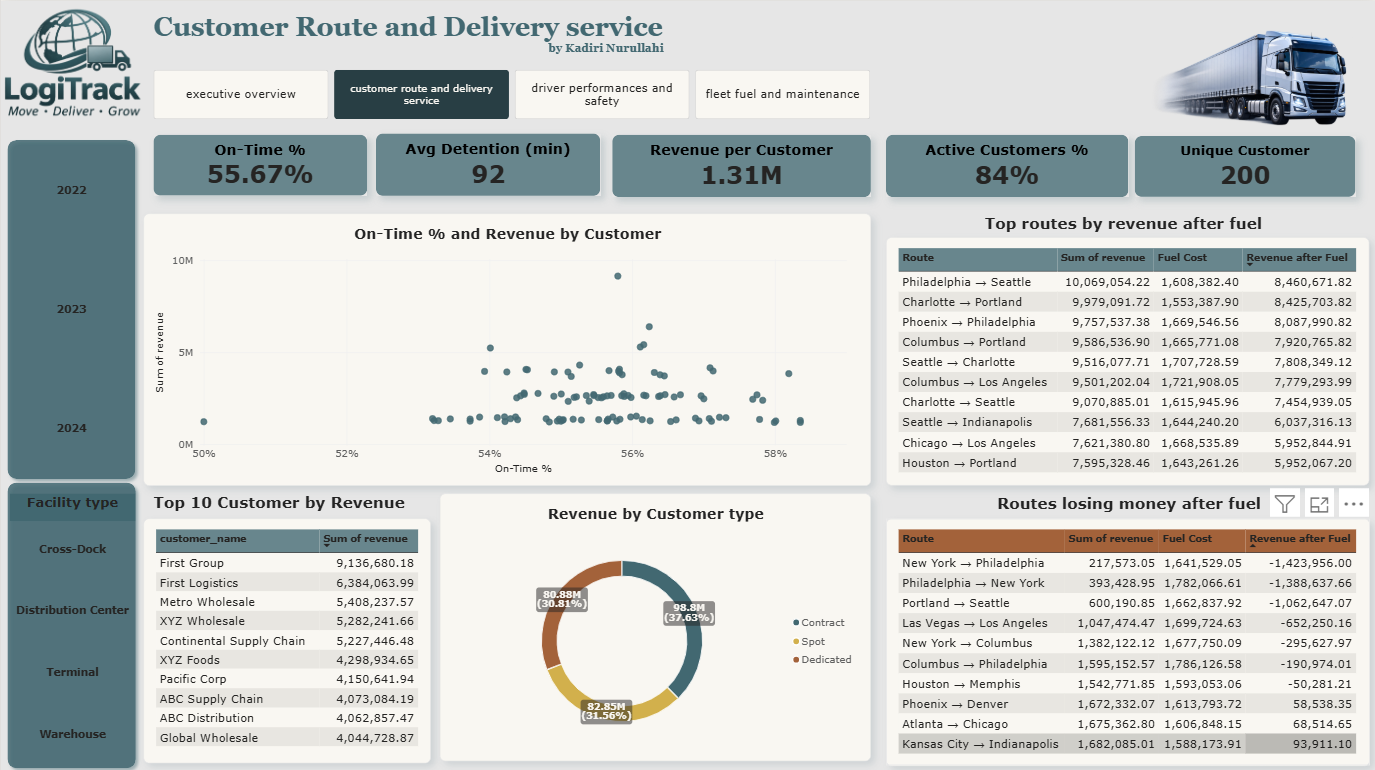

What the dashboard file says about the page in this screenshot:
{"tool":"powerbi","page":{"name":"customer route and delivery service","canvas":[1920,1080],"ordinal":1},"visuals":[{"type":"shape","box":[0,185.7,196.4,491.1],"z":0},{"type":"shape","box":[0,662.8,197.1,416.9],"z":1000},{"type":"cardVisual","fields":{"Data":["loads.Avg Detention (min)"]},"box":[523.3,184.9,314,87.2],"z":2000},{"type":"cardVisual","fields":{"Data":["loads.Revenue per Customer"]},"box":[852.9,186.6,361,87.2],"z":3000},{"type":"cardVisual","fields":{"Data":["loads.On-Time %"]},"box":[212.8,186.6,298.3,85.5],"z":4000},{"type":"tableEx","fields":{"Values":["routes.Route","Sum(loads.revenue)","loads.Fuel Cost","loads.Revenue after Fuel"]},"box":[1235,329.5,674.5,346.5],"z":5000},{"type":"scatterChart","title":"On-Time % and Revenue by Customer ","fields":{"Category":["customers.customer_name"],"X":["loads.On-Time %"],"Y":["Sum(loads.revenue)"]},"box":[198.8,296.5,1015.1,380.2],"z":6000},{"type":"advancedSlicerVisual","title":"Facility type","fields":{"Values":["facilities.facility_type"]},"box":[12.3,686.8,175.6,377.3],"z":7000},{"type":"advancedSlicerVisual","fields":{"Values":["Date.Year"]},"box":[10.7,185.7,176.8,491.1],"z":8000},{"type":"tableEx","fields":{"Values":["customers.customer_name","Sum(loads.revenue)"]},"box":[198.8,722.1,401.2,341.9],"z":9000},{"type":"tableEx","fields":{"Values":["routes.Route","Sum(loads.revenue)","loads.Fuel Cost","loads.Revenue after Fuel"]},"box":[1234.9,722.1,675,345.3],"z":10000},{"type":"donutChart","title":"Revenue by Customer type","fields":{"Category":["customers.customer_type"],"Y":["Divide(Sum(loads.revenue), ScopedEval(Sum(loads.revenue), []))"]},"box":[612.2,687.2,601.7,373.3],"z":11000},{"type":"textbox","box":[1372.1,295.7,409.9,33.1],"z":12000},{"type":"textbox","box":[1389.8,687.5,373.3,31.4],"z":13000},{"type":"textbox","box":[212.5,685.3,357.3,37],"z":14000},{"type":"cardVisual","fields":{"Data":["customers.Active Customers %"]},"box":[1234.9,186.6,338.4,87.2],"z":15000},{"type":"cardVisual","fields":{"Data":["Count(loads.customer_id)"]},"box":[1582,188.4,308.7,85.5],"z":16000},{"type":"pageNavigator","box":[212.8,95.9,1001.2,69.8],"z":17000},{"type":"textbox","box":[212.5,14.3,715.1,71.5],"z":18000},{"type":"image","box":[1.8,5.4,196.4,162.5],"z":19000},{"type":"image","box":[1573.2,35.7,335,150],"z":20000}]}

Visuals, with their boxes in screenshot pixels (x1, y1, x2, y2), scaled from the page's 1920x1080 canvas onto the 1375x770 screenshot:
shape: 0, 132, 141, 483
shape: 0, 473, 141, 769
cardVisual - loads.Avg Detention (min): 375, 132, 600, 194
cardVisual - loads.Revenue per Customer: 611, 133, 869, 195
cardVisual - loads.On-Time %: 152, 133, 366, 194
tableEx - routes.Route x Sum(loads.revenue): 884, 235, 1367, 482
"On-Time % and Revenue by Customer " scatterChart: 142, 211, 869, 482
"Facility type" advancedSlicerVisual: 9, 490, 135, 759
advancedSlicerVisual - Date.Year: 8, 132, 134, 483
tableEx - customers.customer_name x Sum(loads.revenue): 142, 515, 430, 759
tableEx - routes.Route x Sum(loads.revenue): 884, 515, 1368, 761
"Revenue by Customer type" donutChart: 438, 490, 869, 756
textbox: 983, 211, 1276, 234
textbox: 995, 490, 1263, 513
textbox: 152, 489, 408, 515
cardVisual - customers.Active Customers %: 884, 133, 1127, 195
cardVisual - Count(loads.customer_id): 1133, 134, 1354, 195
pageNavigator: 152, 68, 869, 118
textbox: 152, 10, 664, 61
image: 1, 4, 142, 120
image: 1127, 25, 1367, 132
